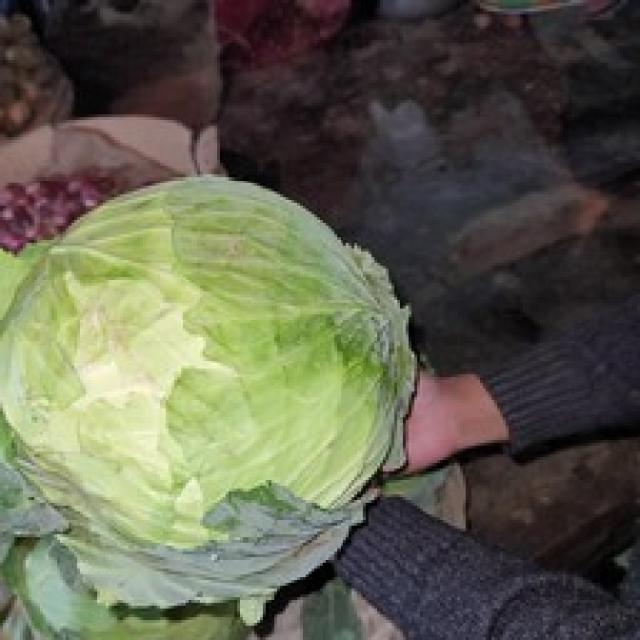Cabbage: (0, 169, 420, 637)
